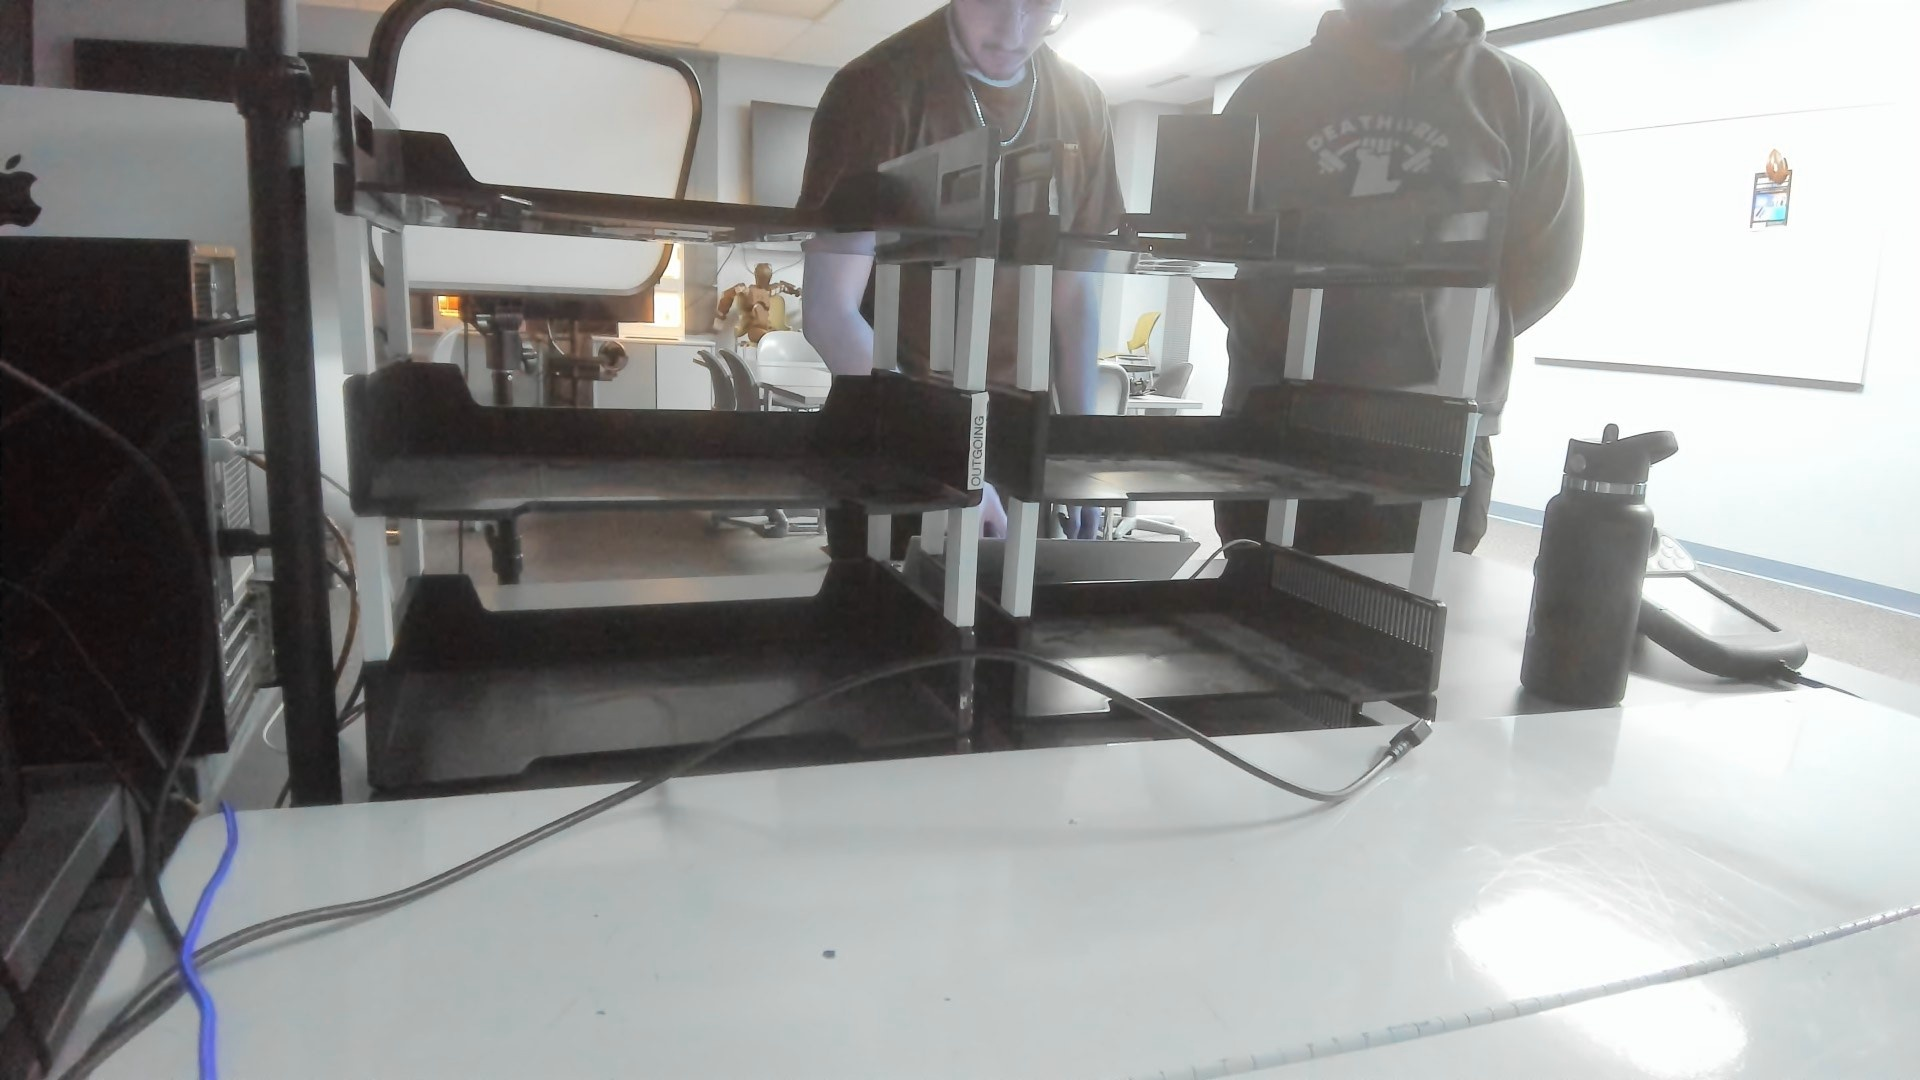black pallet: (1110, 107, 1284, 272)
